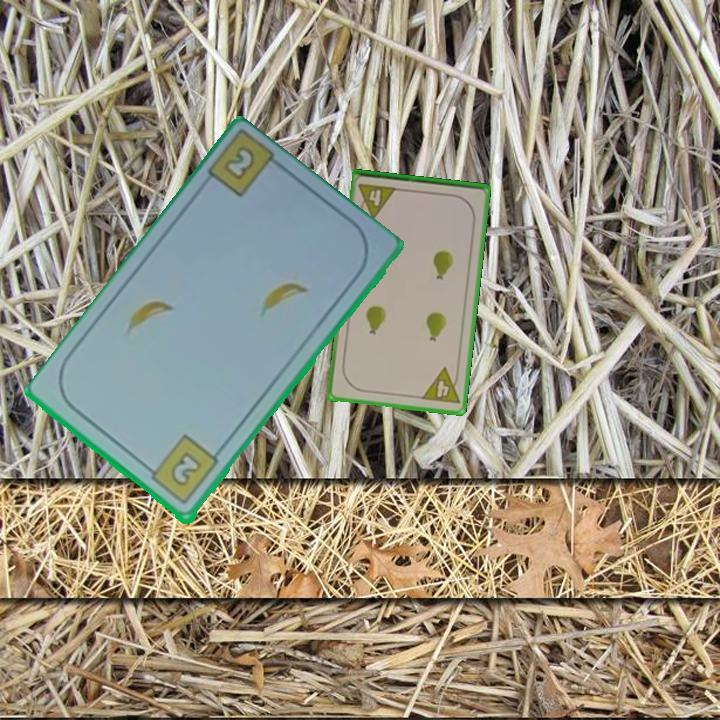2b: (142, 432, 222, 508), (223, 146, 255, 180)
4p: (418, 364, 462, 407), (355, 180, 400, 221)
